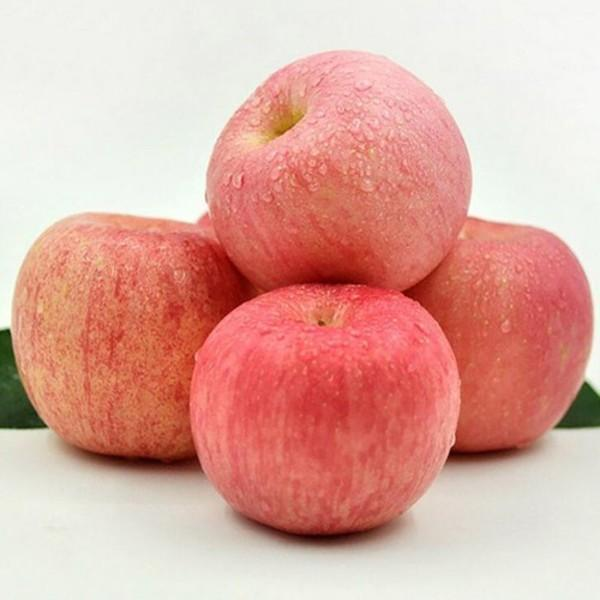apple: (181, 280, 457, 542), (206, 52, 477, 290), (8, 224, 249, 473), (408, 220, 593, 456)
